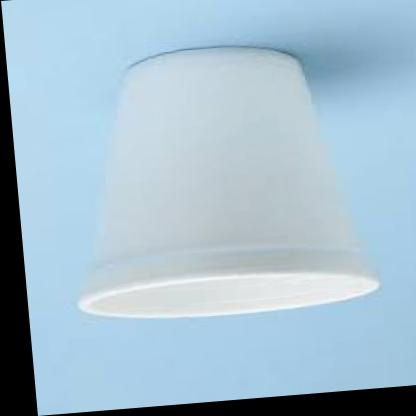trash: (79, 48, 378, 317)
